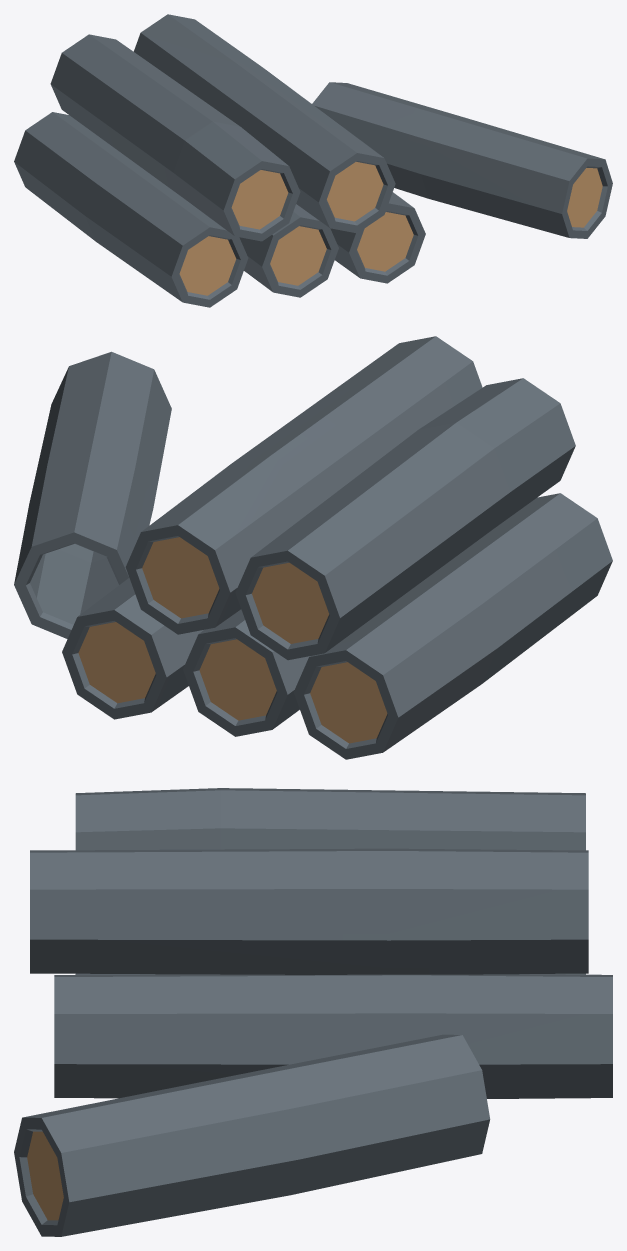
Rendered from timber_a_642.gltf.
3 renders of one model, top to bottom at view 1: azimuth 30°, elevation 25°; view 2: azimuth 150°, elevation 25°; view 3: azimuth 270°, elevation 25°, orthographic. The views are drawn at different scales.
Visible parts, largest first — view 1: timber_a003; view 2: timber_a003; view 3: timber_a003.
Part boxes in pixels (x1=…): timber_a003: x1=14, y1=14, x2=612, y2=307; timber_a003: x1=14, y1=336, x2=612, y2=759; timber_a003: x1=14, y1=788, x2=612, y2=1236.
Size of the model in its own units: 0.782 by 0.2652 by 0.6429.
1 material, 1 textured.
